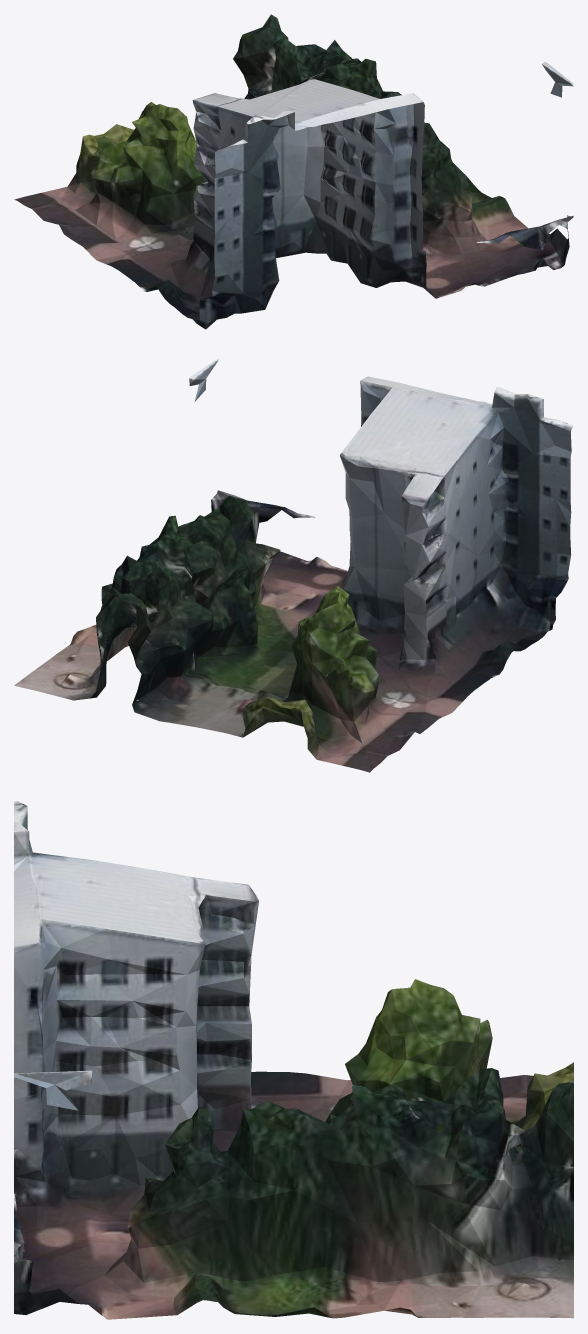
Rendered from helsinki-3-7.glb.
The picture shows the model from 3 angles, top to bottom: view 1: azimuth 30°, elevation 25°; view 2: azimuth 150°, elevation 25°; view 3: azimuth 270°, elevation 25°; orthographic projection. The views are drawn at different scales.
Size of the model in its own units: 31.75 by 19.05 by 31.5.
1 material, 1 textured.
